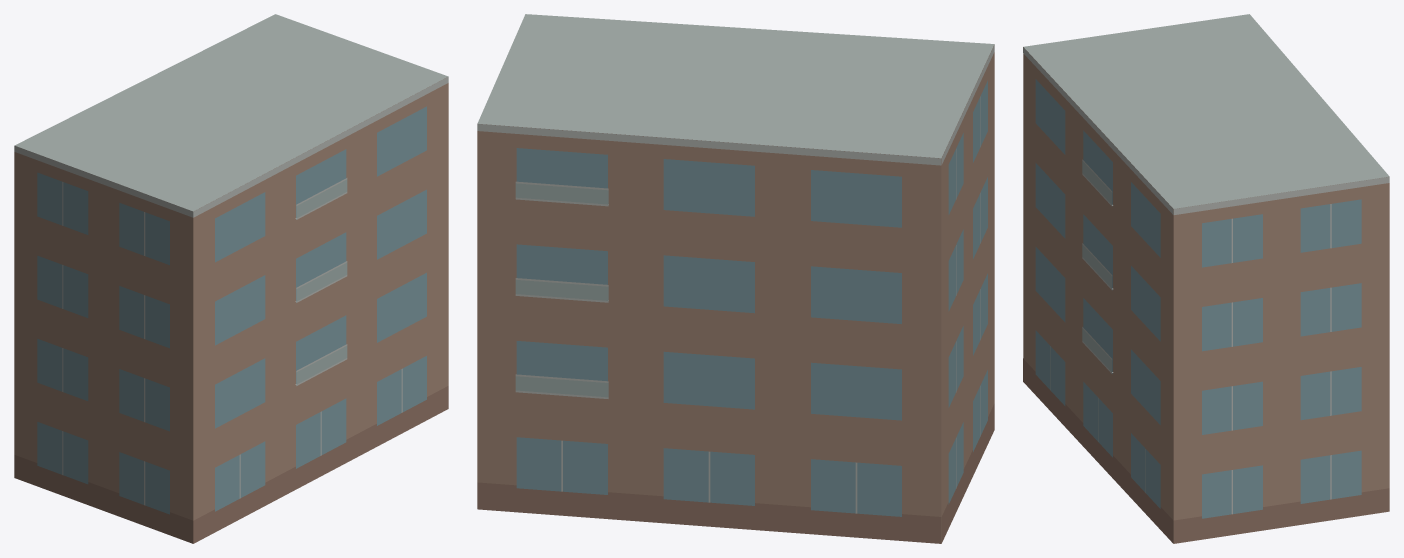
Rendered from survey-upis-32964184.glb.
3 views of the same model, side by side, from view 1: azimuth 30°, elevation 25°; view 2: azimuth 150°, elevation 25°; view 3: azimuth 270°, elevation 25° (orthographic). The views are drawn at different scales.
Parts seen in each view (by area): view 1: survey-upis-32964184.tmp; view 2: survey-upis-32964184.tmp; view 3: survey-upis-32964184.tmp.
Part boxes in pixels (left/top/right/bottom): survey-upis-32964184.tmp: left=14, top=14, right=448, bottom=543; survey-upis-32964184.tmp: left=477, top=14, right=994, bottom=543; survey-upis-32964184.tmp: left=1023, top=14, right=1389, bottom=543.
Size of the model in its own units: 16.11 by 12.9 by 12.8.
